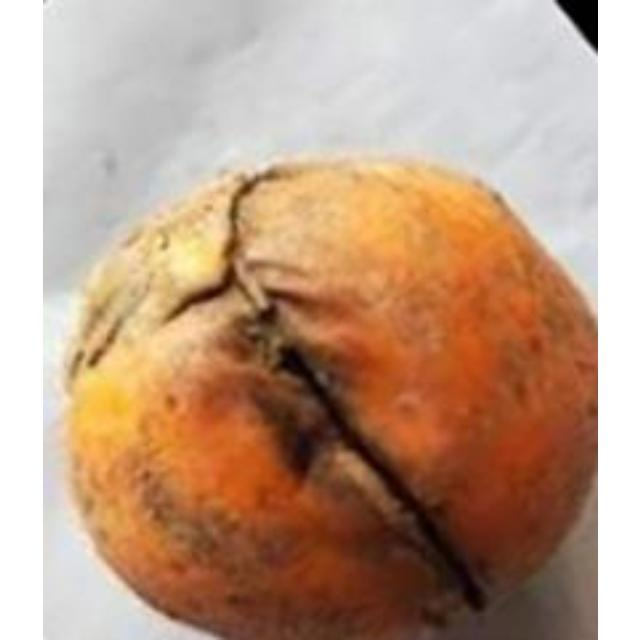damaged: (63, 151, 594, 637)
